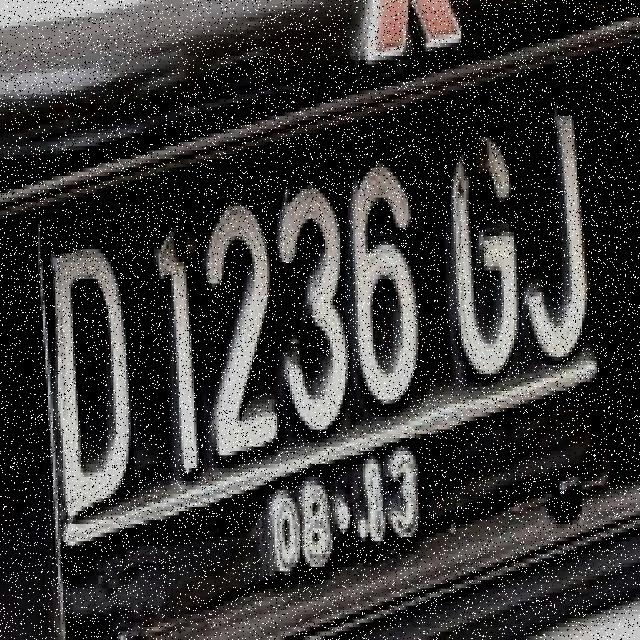licenseplate: (34, 58, 616, 640)
